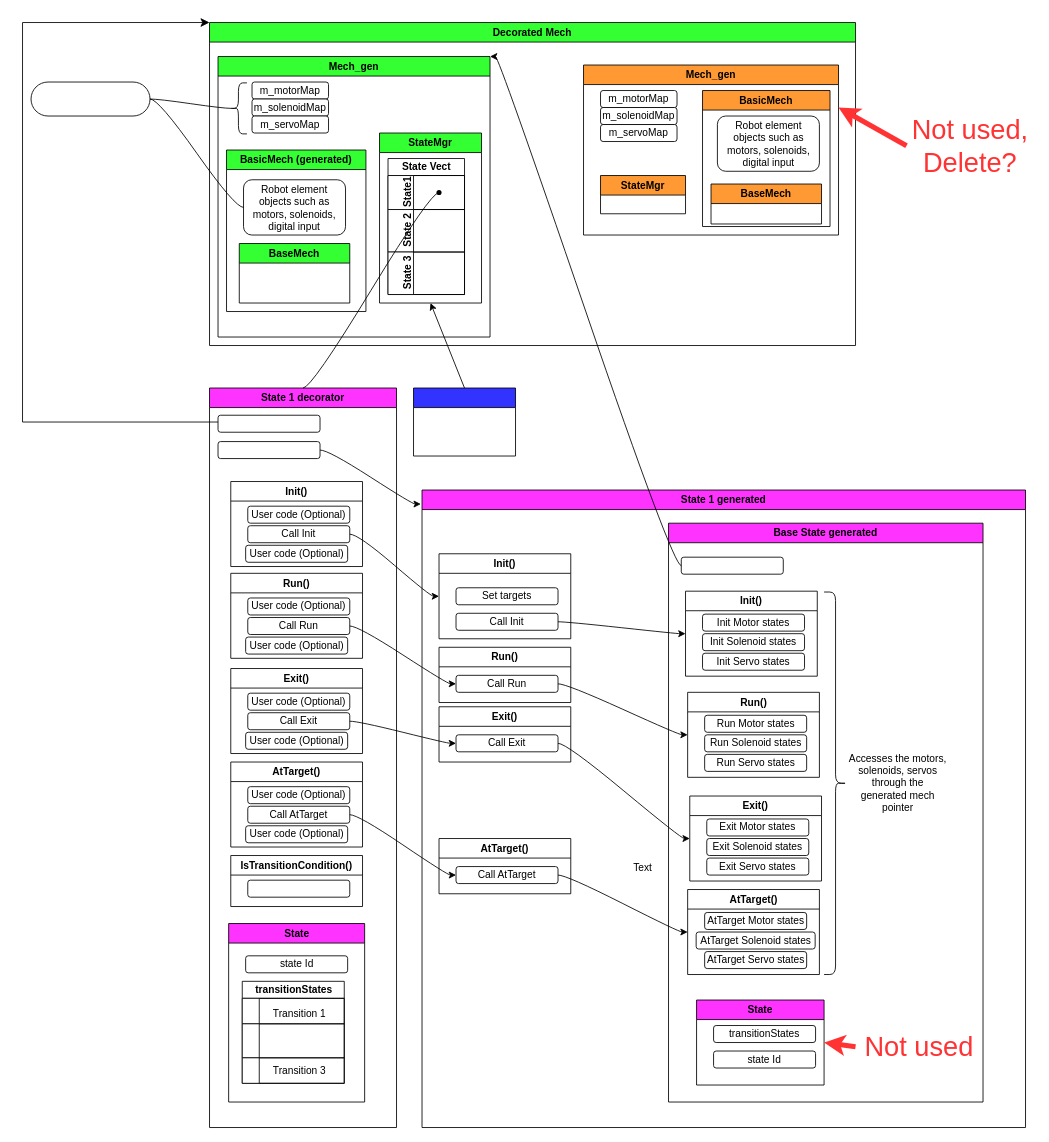
Some shapes in this 1049 by 1142 pixel diagram are drawn without their labels. Here are the shapes that lost their labels. From the top down, the centre of each, then its label:
At [90,98]: "Initialized in DefineMechanisms()".
At [268,423]: "*decoratedMech".
At [464,421]: "Periodic Looper".
At [268,450]: "*generatedState".
At [731,565]: "*generated Mech".
At [298,888]: "User code".
At [292,1040]: "Transition 2".
